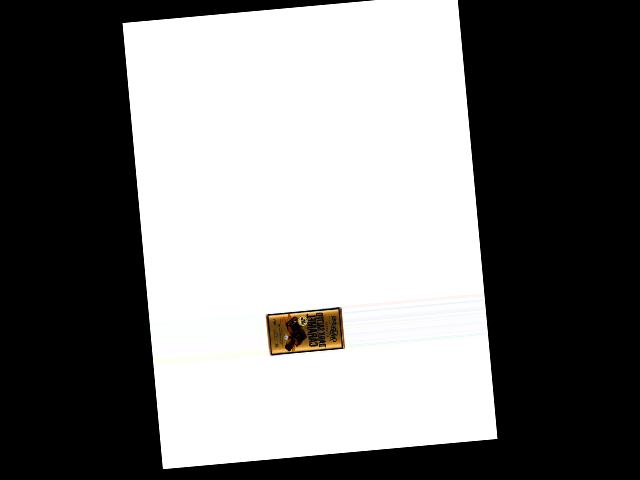chocolate: (263, 304, 344, 357)
